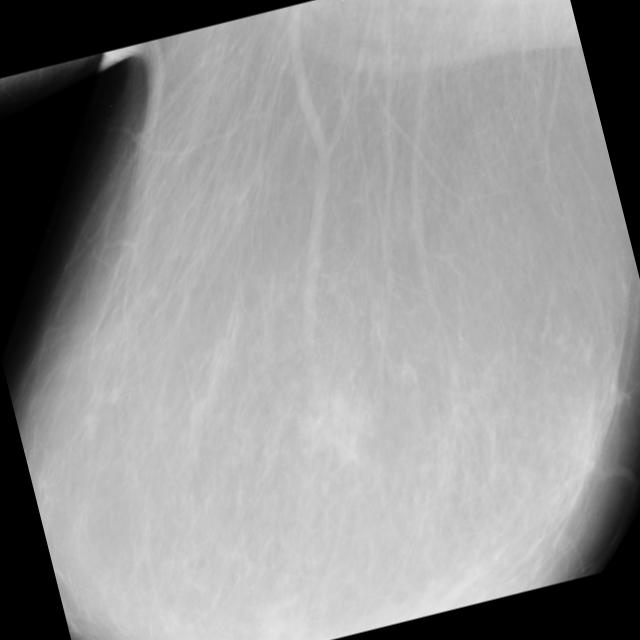ARCH: (212, 0, 640, 401)
